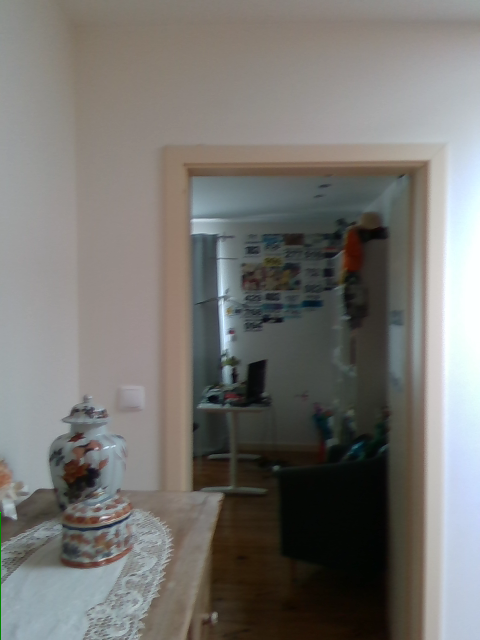open: (159, 140, 441, 639)
